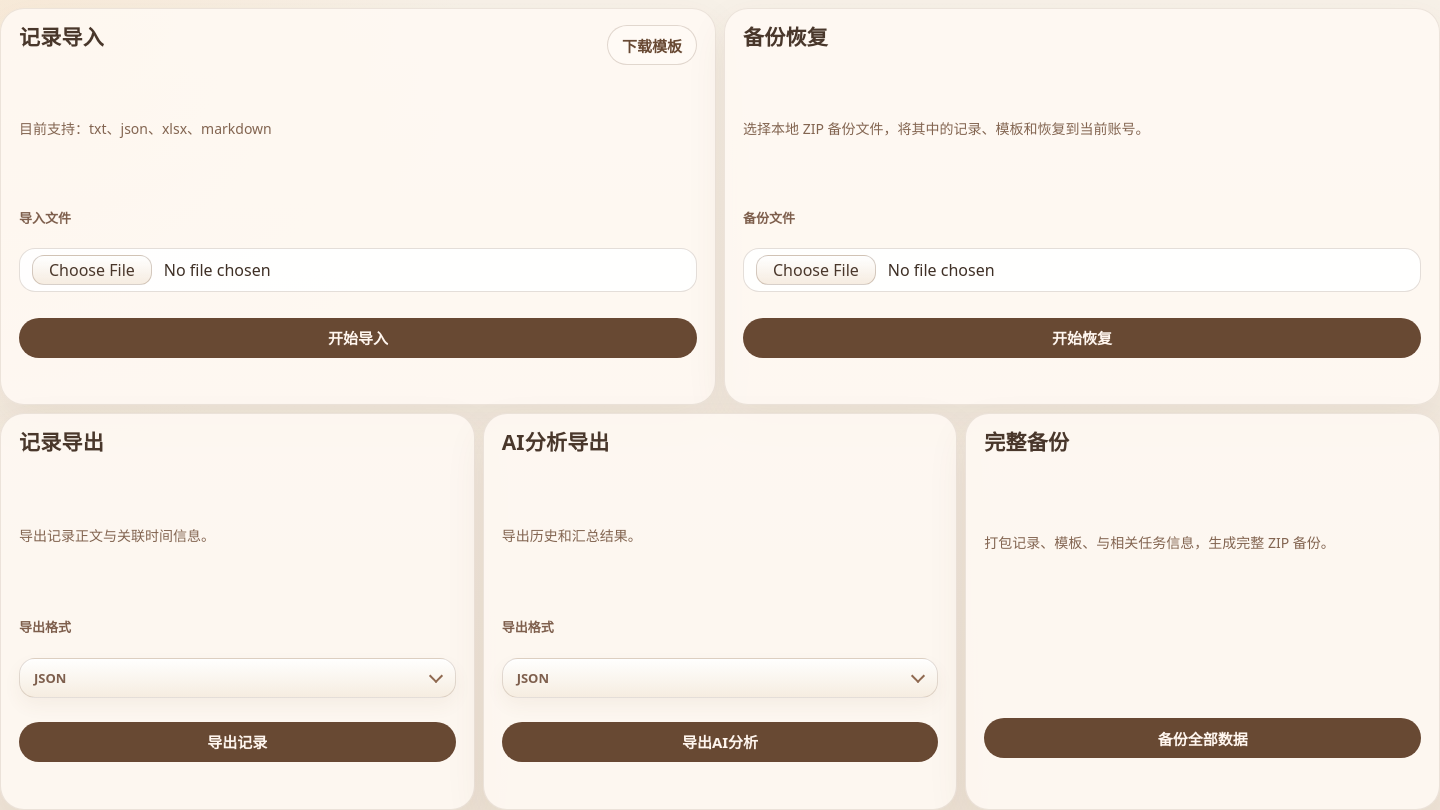
Test: DataCenterPage › shows login notice when guest tries to create export
Click the button "导出记录". click: (237, 742)
box: x1=19 y1=722 x2=456 y2=762
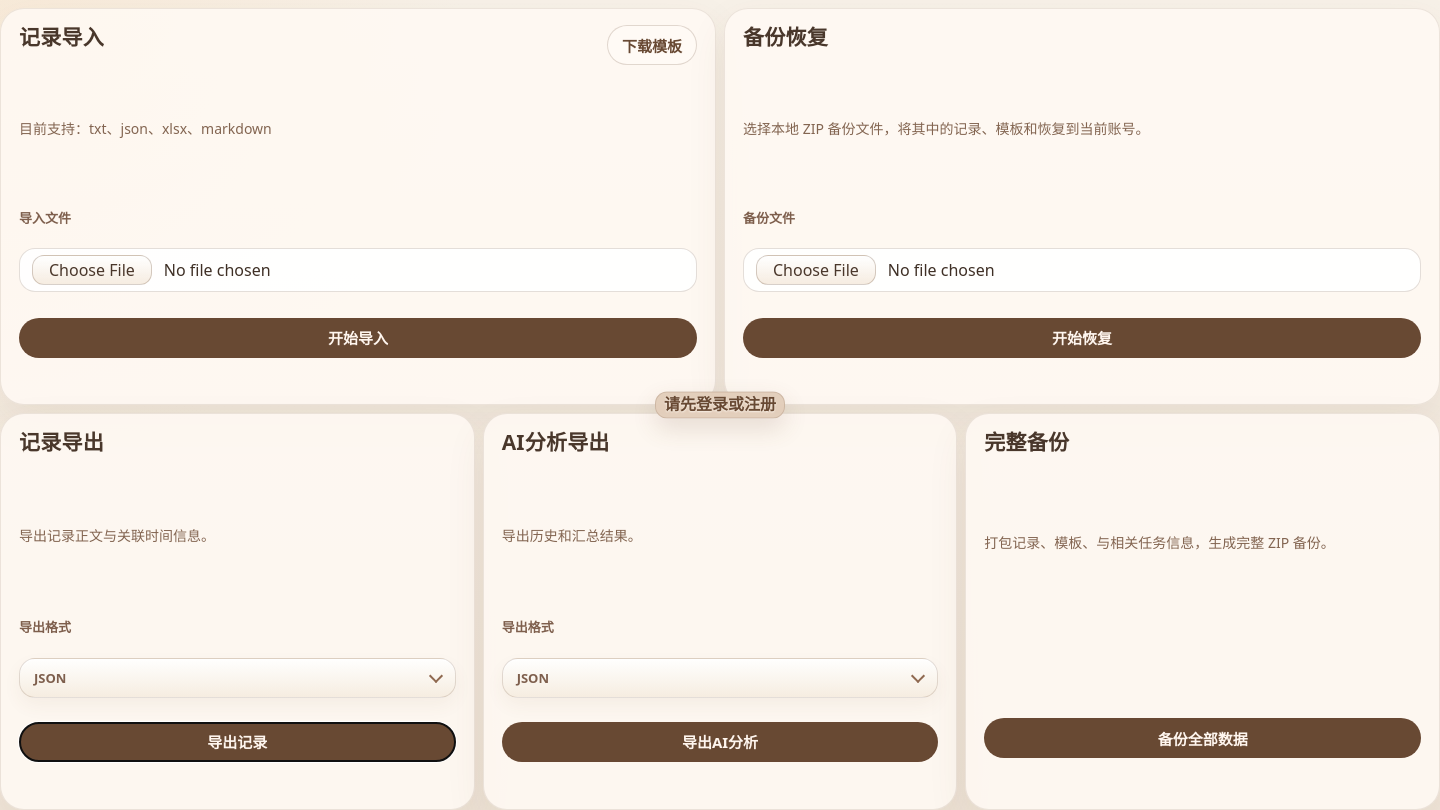
Expected: the text "请先登录或注册" is shown, x1=664 y1=395 x2=776 y2=415
